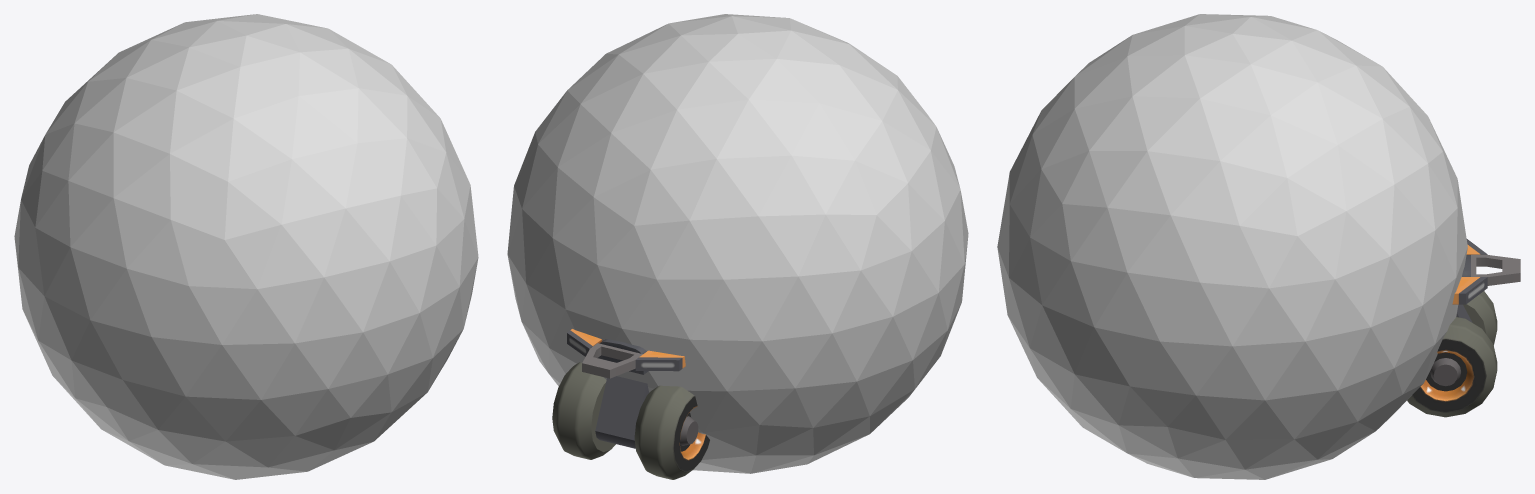
Rendered from Vechile_IslandMotobike.fbx.
3 views of the same model, side by side, from view 1: azimuth 30°, elevation 25°; view 2: azimuth 150°, elevation 25°; view 3: azimuth 270°, elevation 25° (orthographic).
Visible parts, largest first — view 1: SodaPointLight; view 2: SodaPointLight, Vechile_Island_Moto4, Vechile_Island_Moto2; view 3: SodaPointLight, Vechile_Island_Moto4, Vechile_Island_Moto2.
Part boxes in pixels (x1,y1,x2,y2): SodaPointLight: (14,14,478,479); SodaPointLight: (507,14,968,473); Vechile_Island_Moto4: (552,362,709,479); Vechile_Island_Moto2: (567,329,685,448); SodaPointLight: (997,14,1467,479); Vechile_Island_Moto4: (1407,291,1497,417); Vechile_Island_Moto2: (1452,239,1520,322).
Bounding box in the file's own units: 3.27 × 3.27 × 3.64.
2 materials, 1 textured.
